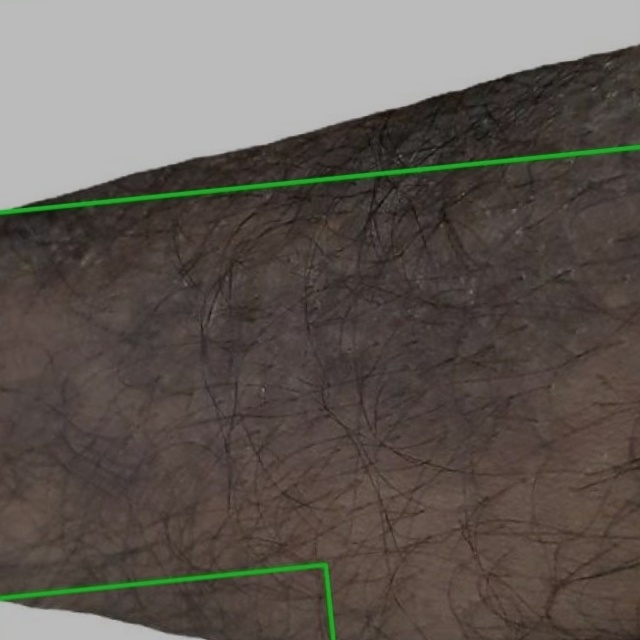Contact Dermatitis: (0, 0, 639, 213)
